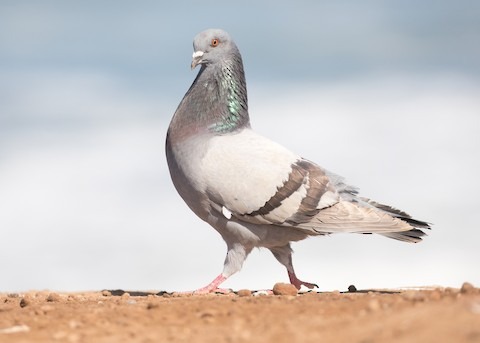pigeon: (163, 25, 433, 293)
